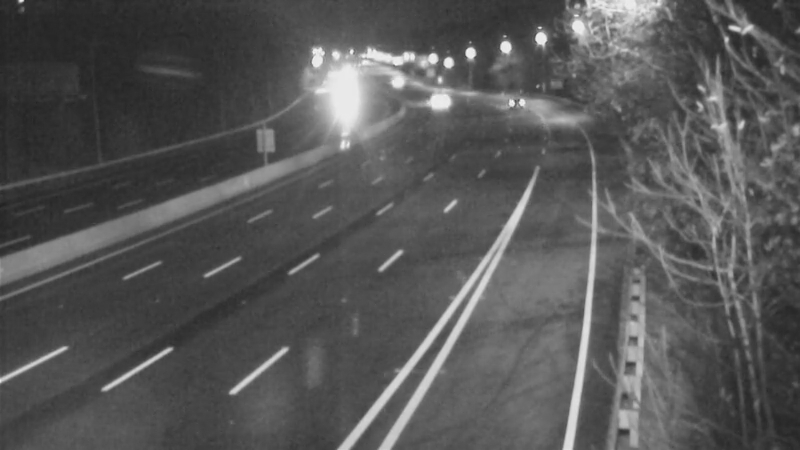vehicle: (368, 56, 418, 106), (486, 73, 536, 123), (407, 74, 457, 124), (322, 73, 372, 123)
